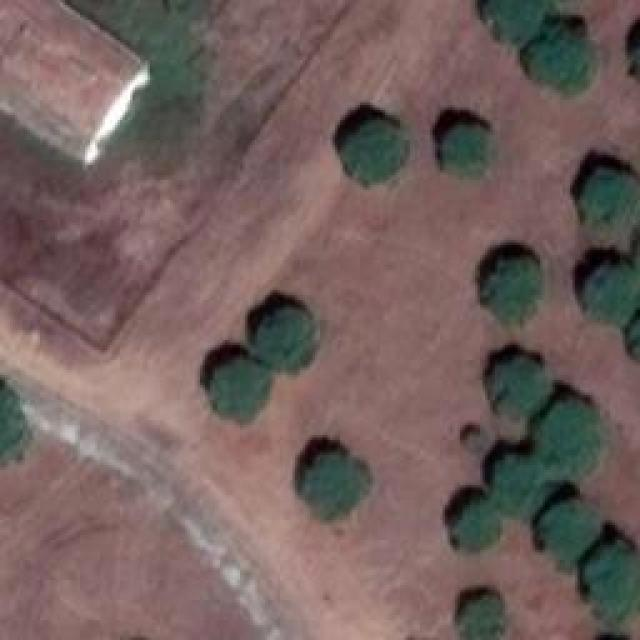Tree: (575, 158, 640, 248), (298, 445, 371, 516), (538, 398, 605, 475), (344, 112, 412, 183), (528, 25, 596, 94), (205, 350, 276, 416), (253, 300, 319, 370), (585, 535, 640, 615), (535, 495, 603, 557), (578, 260, 640, 325), (485, 255, 547, 317), (490, 353, 553, 412), (438, 117, 498, 177), (490, 452, 546, 510), (477, 0, 548, 43), (458, 590, 511, 639), (453, 498, 502, 548), (463, 425, 487, 453)
